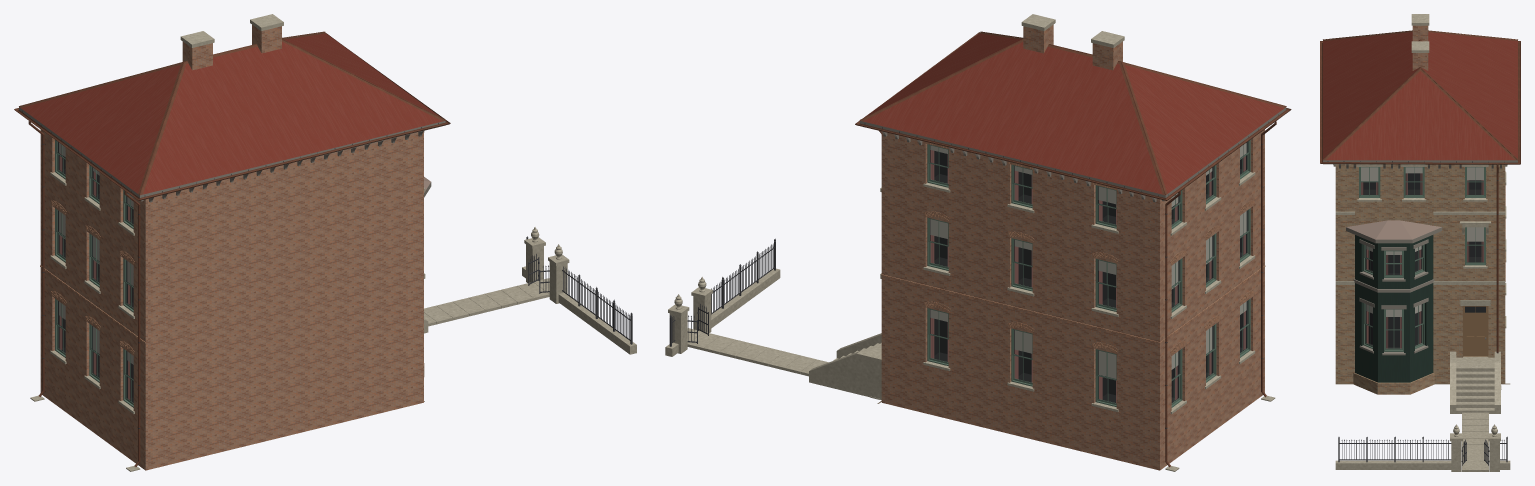
Rendered from house_1626_prairie__as_mapped_1904.glb.
3 renders of one model, left to right at view 1: azimuth 30°, elevation 25°; view 2: azimuth 150°, elevation 25°; view 3: azimuth 270°, elevation 25°, orthographic. The views are drawn at different scales.
Visible parts, largest first — view 1: house_1626_prairie__as_mapped_1904; view 2: house_1626_prairie__as_mapped_1904; view 3: house_1626_prairie__as_mapped_1904.
Part boxes in pixels (x1,y1,x2,y2): house_1626_prairie__as_mapped_1904: (14,14,636,471); house_1626_prairie__as_mapped_1904: (665,14,1291,471); house_1626_prairie__as_mapped_1904: (1320,14,1520,471).
Size of the model in its own units: 22.67 by 15.66 by 9.49.
23 materials, 12 textured.
